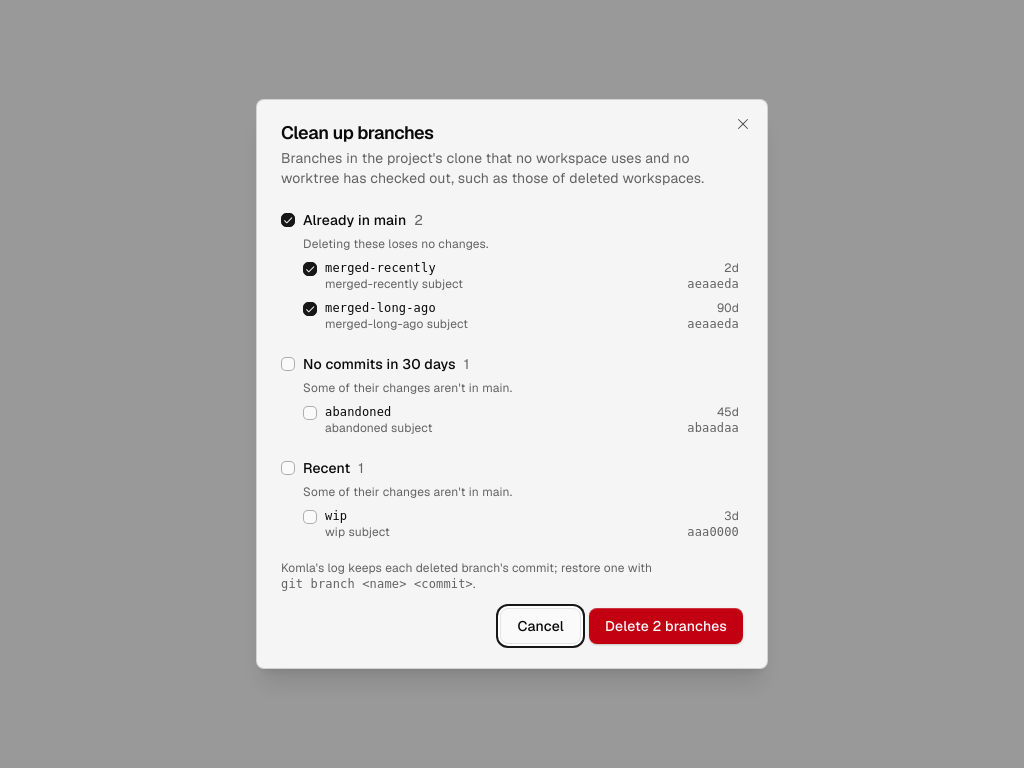
BranchCleanupDialog › keeps what was unticked after a partial failure, and unticks the branches it kept
Click the checkbox labelled "merged-recently": coordinates (310, 269) [303,262,317,276]
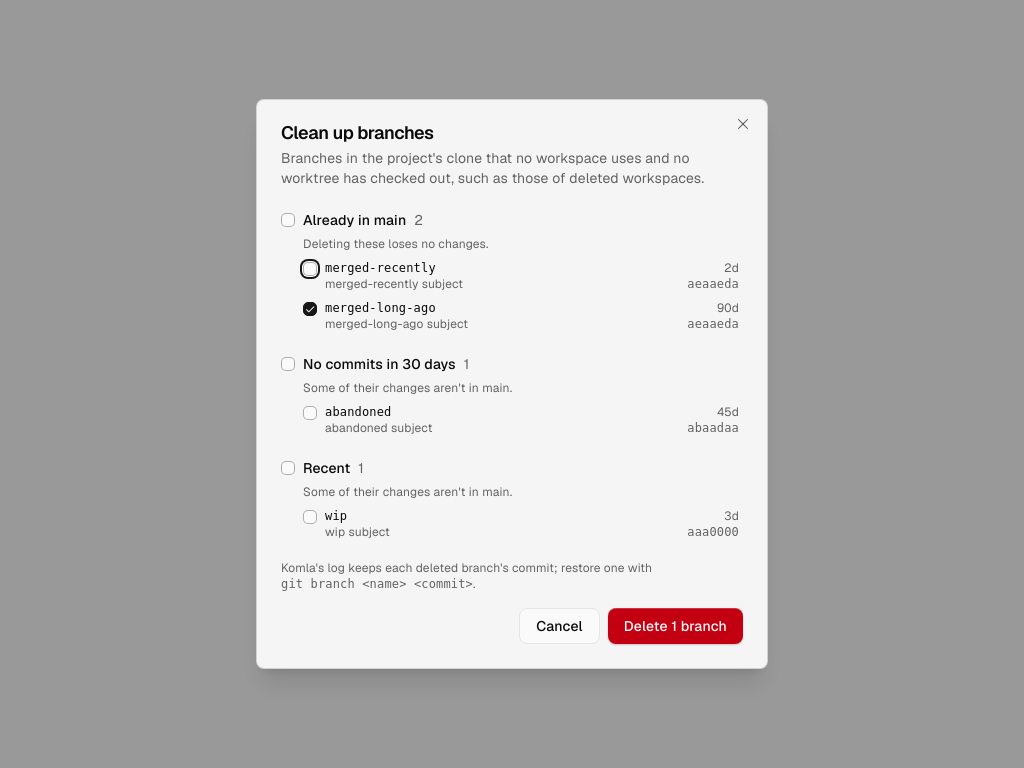
Click the checkbox labelled "abandoned": coordinates (310, 413) [303,406,317,420]
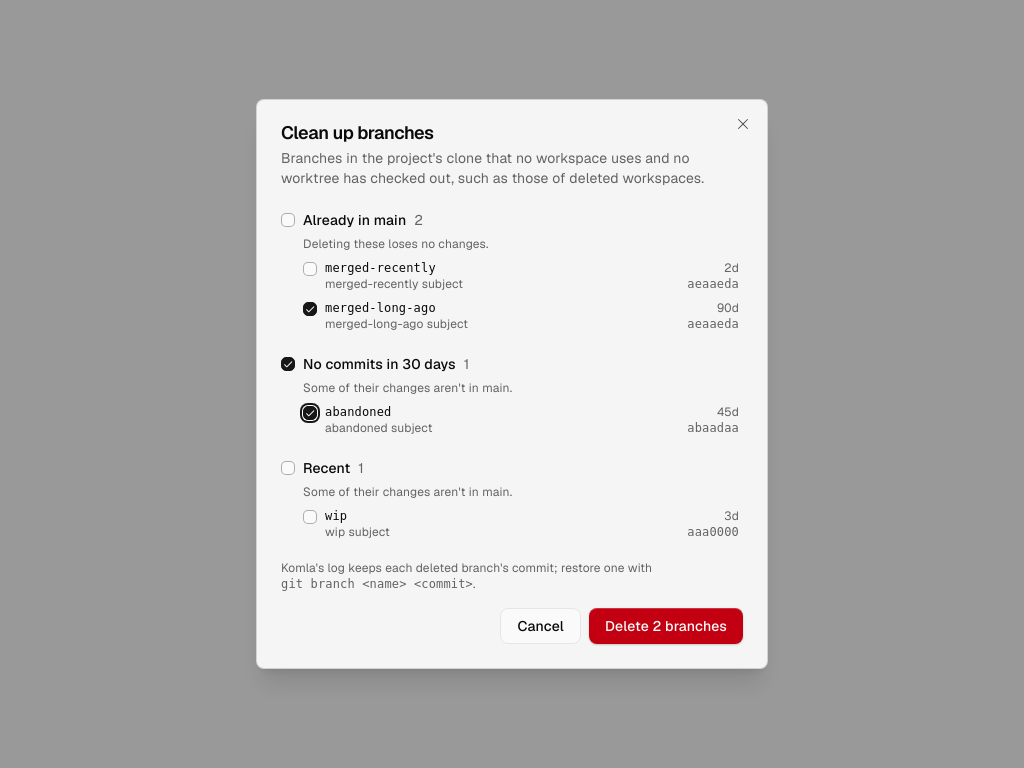
Click the button "Delete 2 branches": coordinates (666, 626) [589,608,743,644]
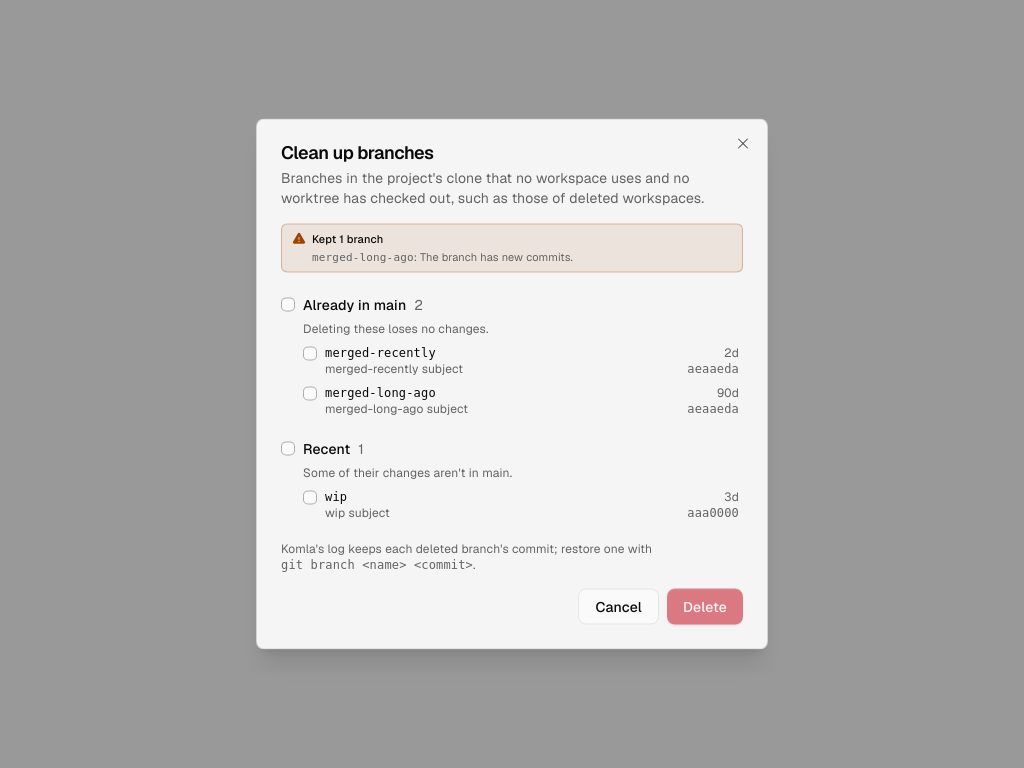
Check: the checkbox labelled "merged-recently" is not checked, box [303,346,317,360]
Check: the text "Kept 1 branch" is shown, box [312,232,383,246]
Check: the checkbox labelled "merged-long-ago" is not checked, box [303,386,317,400]
